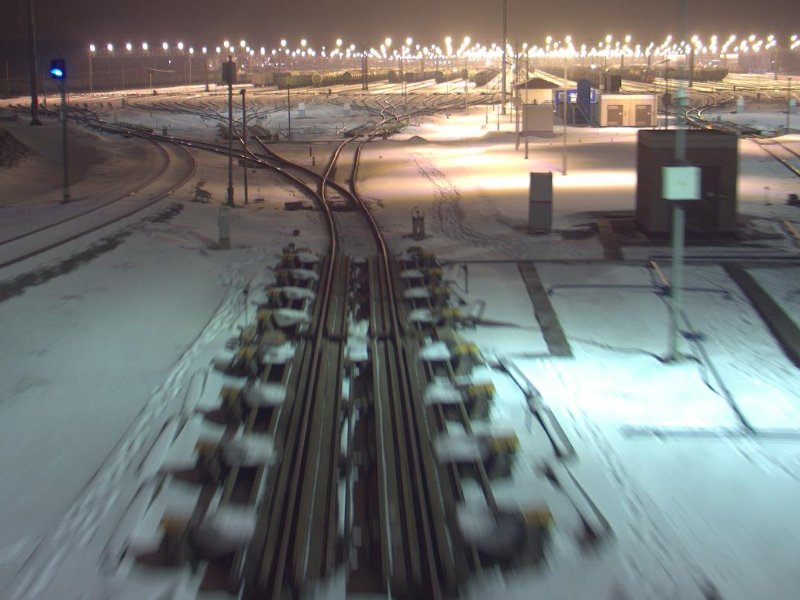right: (315, 190, 370, 210)
